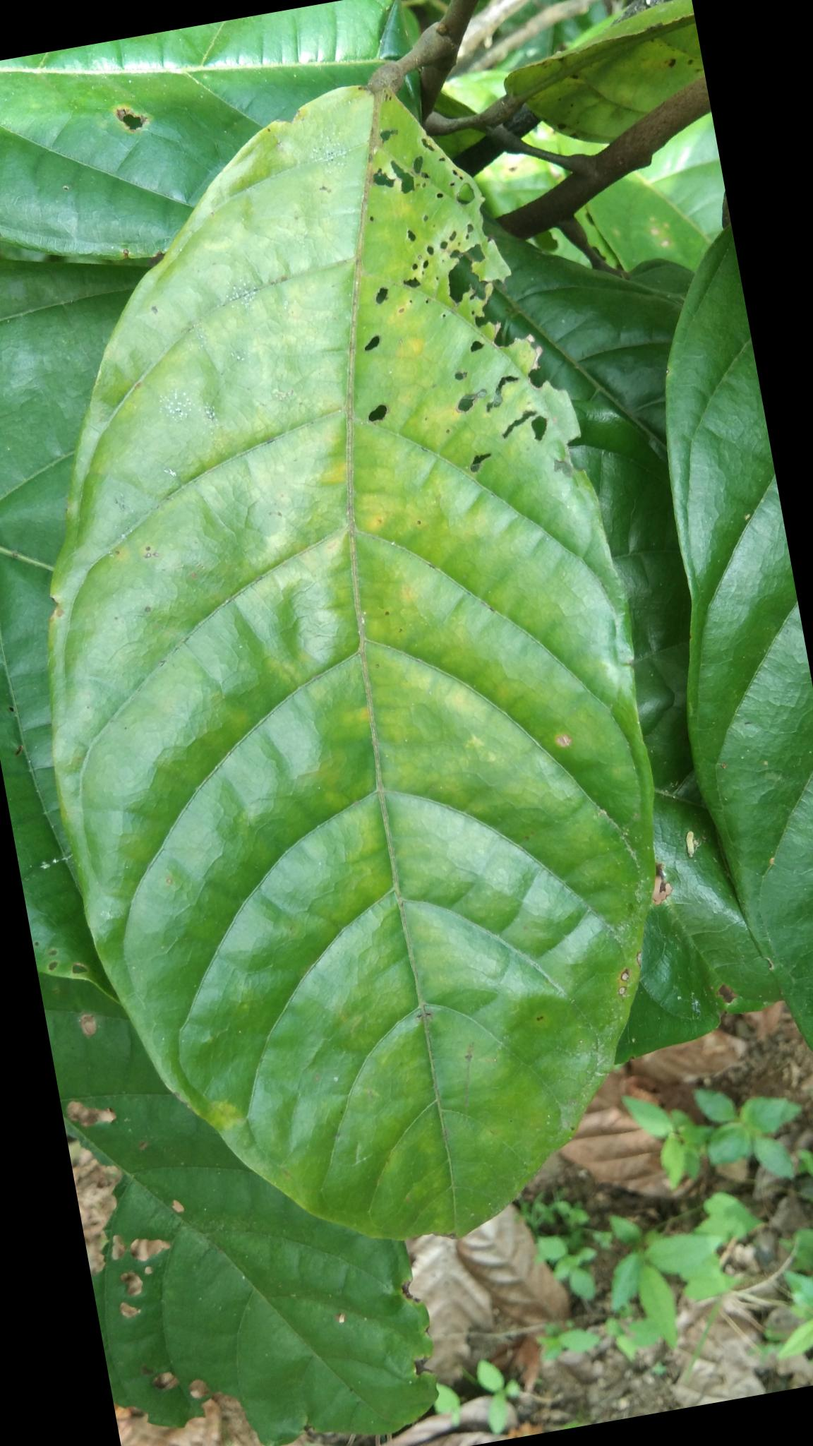Fosforo: (45, 82, 656, 1245)
